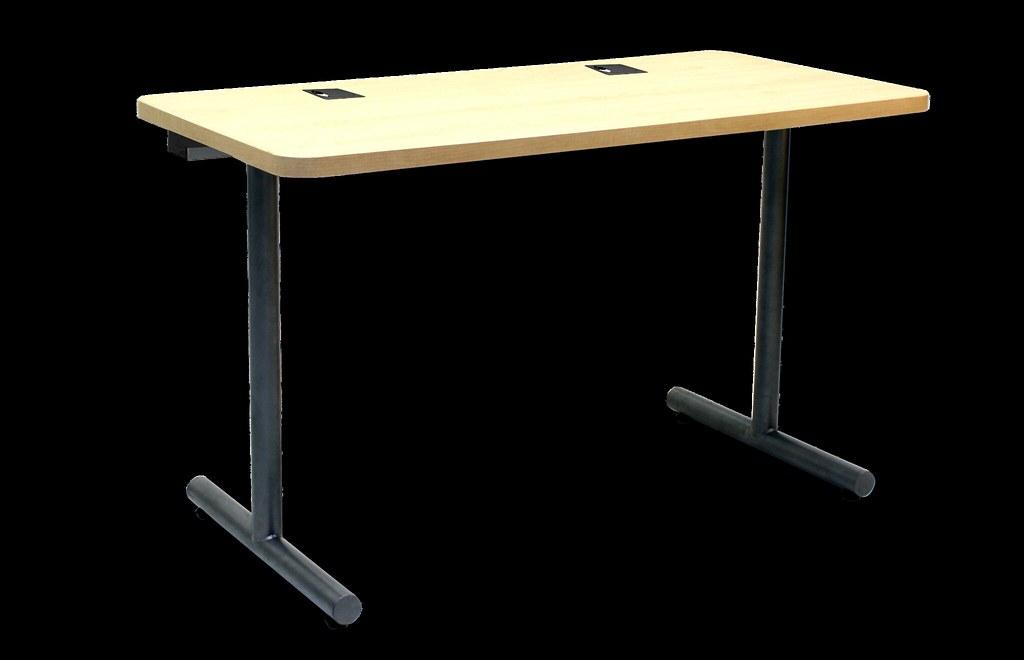table: (135, 48, 932, 627)
